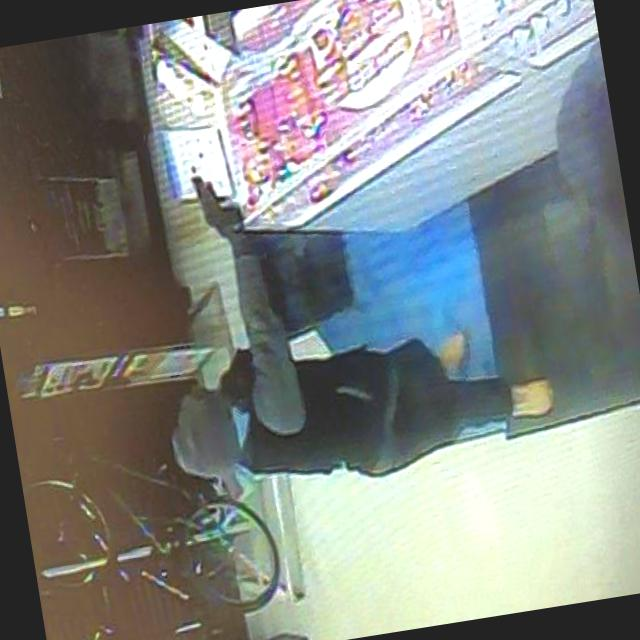handgun: (183, 163, 250, 242)
